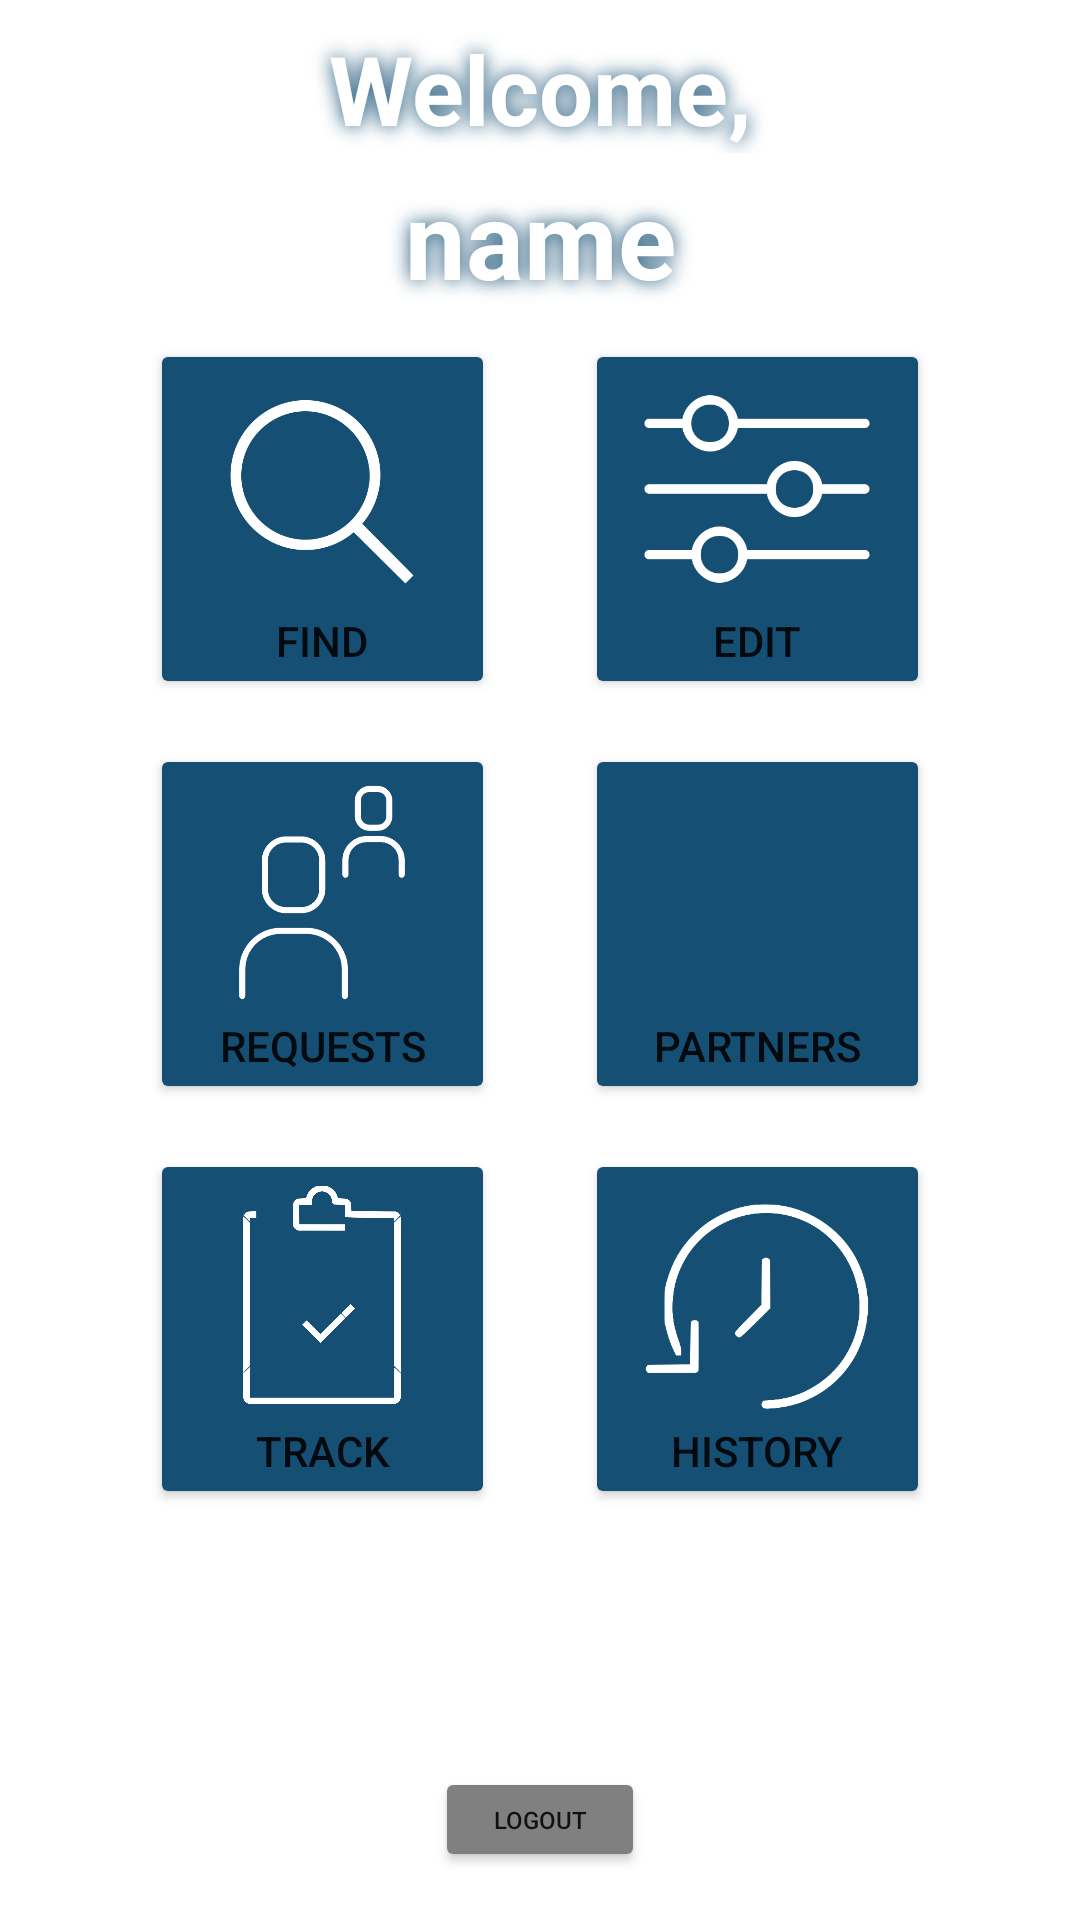

Screen size 1080x1920. Icon name, then its center in pixels as point (x, y):
matches: point (322, 892)
preferences: point (757, 489)
progress: point (322, 1294)
